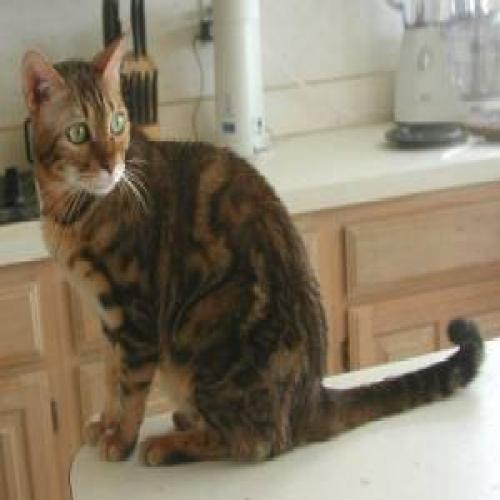bengal: (12, 33, 149, 215)
